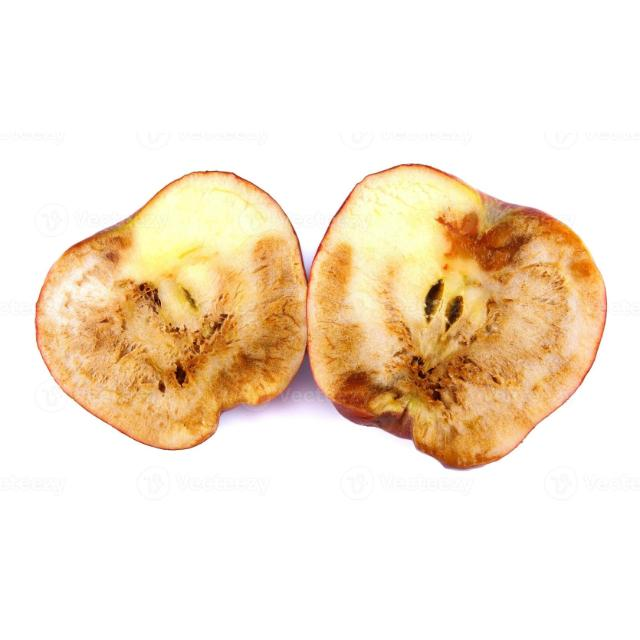organic: (303, 164, 608, 471), (33, 171, 309, 453)
